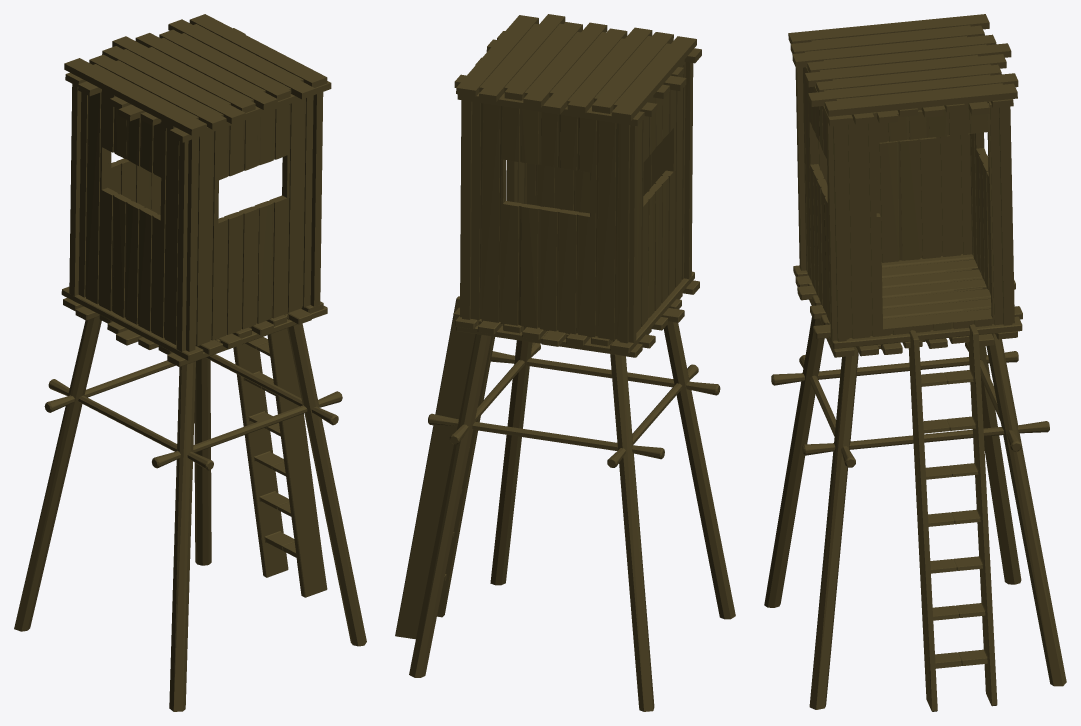
The model's file is TDS-HunterStand.fbx.
3 renders of one model, left to right at view 1: azimuth 30°, elevation 25°; view 2: azimuth 150°, elevation 25°; view 3: azimuth 270°, elevation 25°, orthographic. The views are drawn at different scales.
Visible parts, largest first — view 1: Hunter Stand; view 2: Hunter Stand; view 3: Hunter Stand.
Part boxes in pixels (x1,y1,x2,y2): Hunter Stand: (14,14,366,711); Hunter Stand: (395,14,735,711); Hunter Stand: (764,14,1066,711).
Size of the model in its own units: 224 by 448 by 210.
